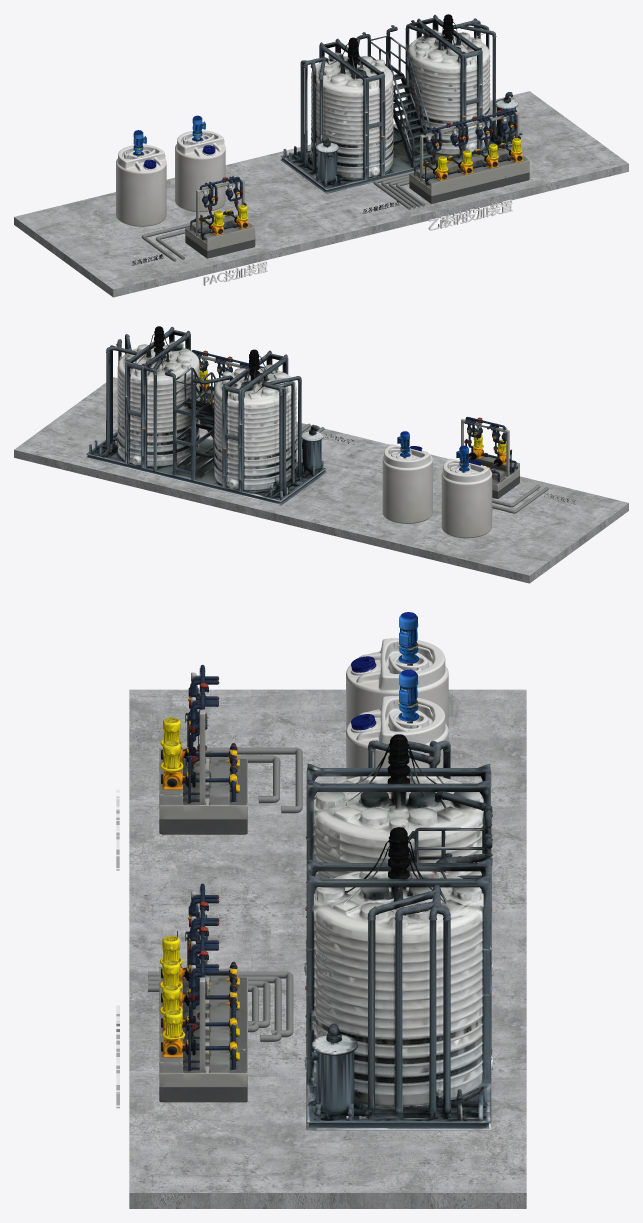
File: PAC及乙酸钠加药装置.max1024(1).glb
3 views of the same model, one above another, from view 1: azimuth 30°, elevation 25°; view 2: azimuth 150°, elevation 25°; view 3: azimuth 270°, elevation 25° (orthographic). The views are drawn at different scales.
Parts seen in each view (by area): view 1: Rectangle142, jiayaotong001, node_012 (1), node_008, node_009, node_012, 对象004, 对象006; view 2: Rectangle142, jiayaotong001, node_008, node_009, node_012, node_012 (1); view 3: Rectangle142, jiayaotong001, node_012 (1), node_012, node_008, node_009, Line026, 乙酸钠1号加药搅拌机, PAC2号加药搅拌机, PAC1号加药搅拌机, Line030, 乙酸钠2号加药搅拌机 (+1 smaller).
Part boxes in pixels (left/top/right/bottom): Rectangle142: left=14, top=91, right=628, bottom=297; jiayaotong001: left=280, top=14, right=522, bottom=193; node_012 (1): left=409, top=109, right=529, bottom=203; node_008: left=116, top=144, right=166, bottom=226; node_009: left=175, top=130, right=225, bottom=212; node_012: left=185, top=176, right=255, bottom=258; 对象004: left=428, top=199, right=512, bottom=230; 对象006: left=203, top=261, right=267, bottom=285; Rectangle142: left=14, top=377, right=628, bottom=583; jiayaotong001: left=86, top=327, right=326, bottom=505; node_008: left=441, top=458, right=492, bottom=538; node_009: left=382, top=444, right=433, bottom=523; node_012: left=461, top=416, right=519, bottom=498; node_012 (1): left=191, top=350, right=264, bottom=424; Rectangle142: left=129, top=689, right=526, bottom=1208; jiayaotong001: left=304, top=740, right=493, bottom=1130; node_012 (1): left=159, top=883, right=247, bottom=1102; node_012: left=159, top=665, right=247, bottom=834; node_008: left=346, top=638, right=448, bottom=728; node_009: left=346, top=696, right=448, bottom=779; Line026: left=182, top=747, right=302, bottom=813; 乙酸钠1号加药搅拌机: left=372, top=734, right=414, bottom=783; PAC2号加药搅拌机: left=398, top=669, right=419, bottom=723; PAC1号加药搅拌机: left=398, top=612, right=419, bottom=665; Line030: left=148, top=971, right=293, bottom=1037; 乙酸钠2号加药搅拌机: left=388, top=827, right=409, bottom=875.
Size of the model in its own units: 20.44 by 5.45 by 7.04.
Materials: 7 (4 with a texture image).
